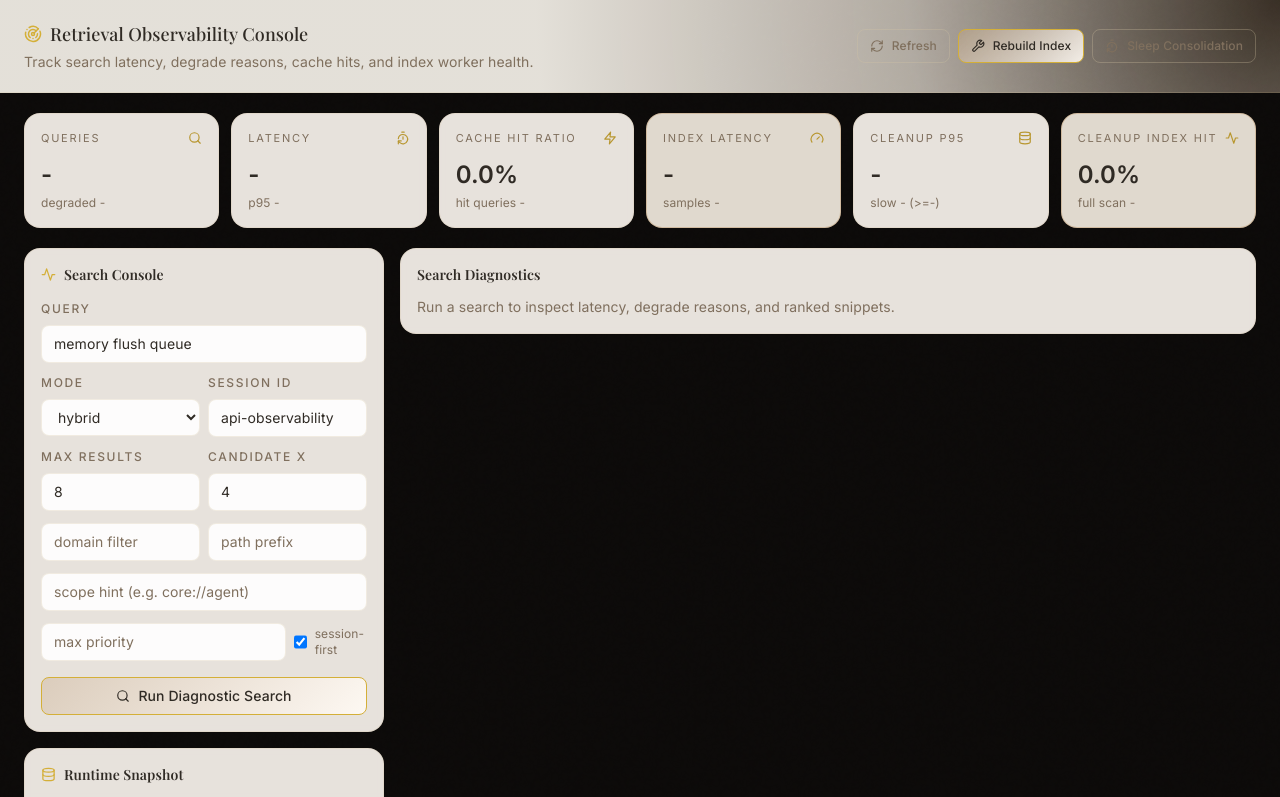
Test: ObservabilityPage › blocks diagnostic search when max priority is not an integer
Type "1.9" into the number field named "Max priority filter".
click(163, 642); type("1.9")  # box [41,622,286,660]
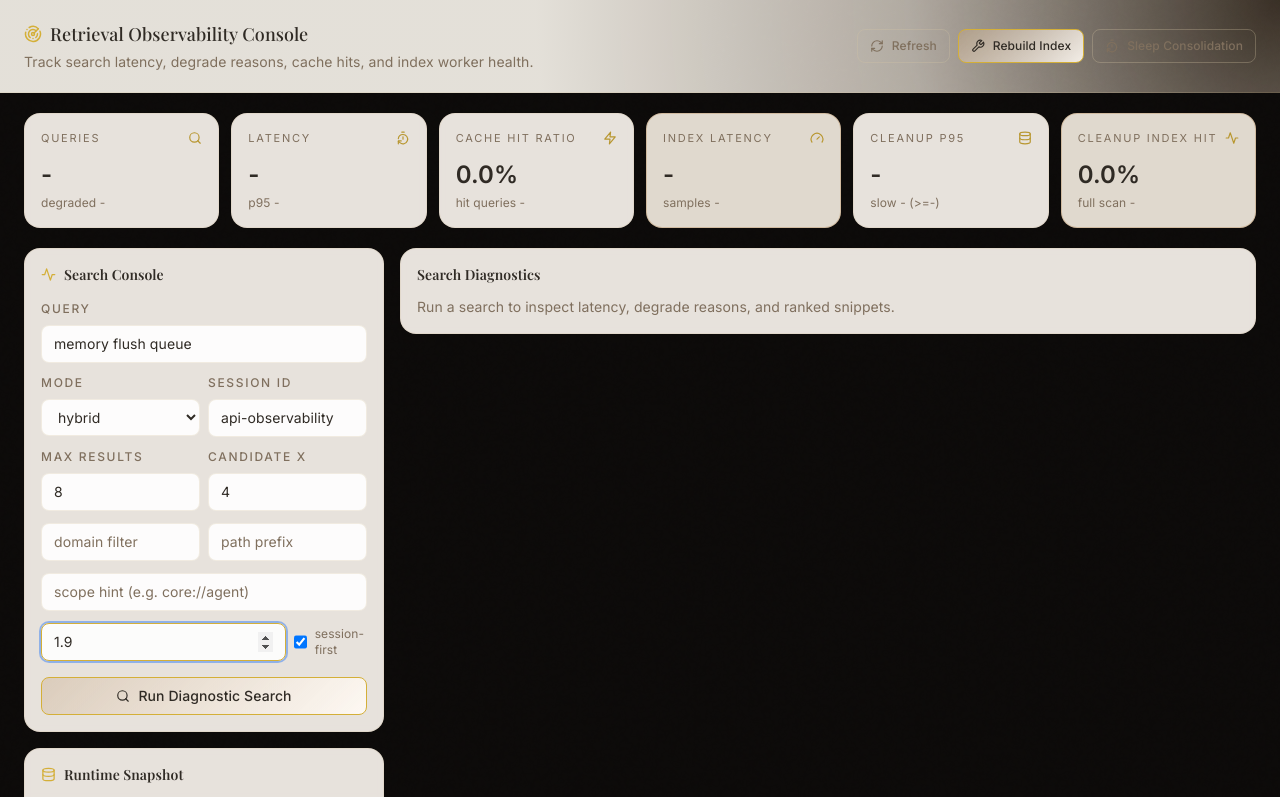
Click the button "Run Diagnostic Search".
click(204, 696)  # box [41,676,367,714]
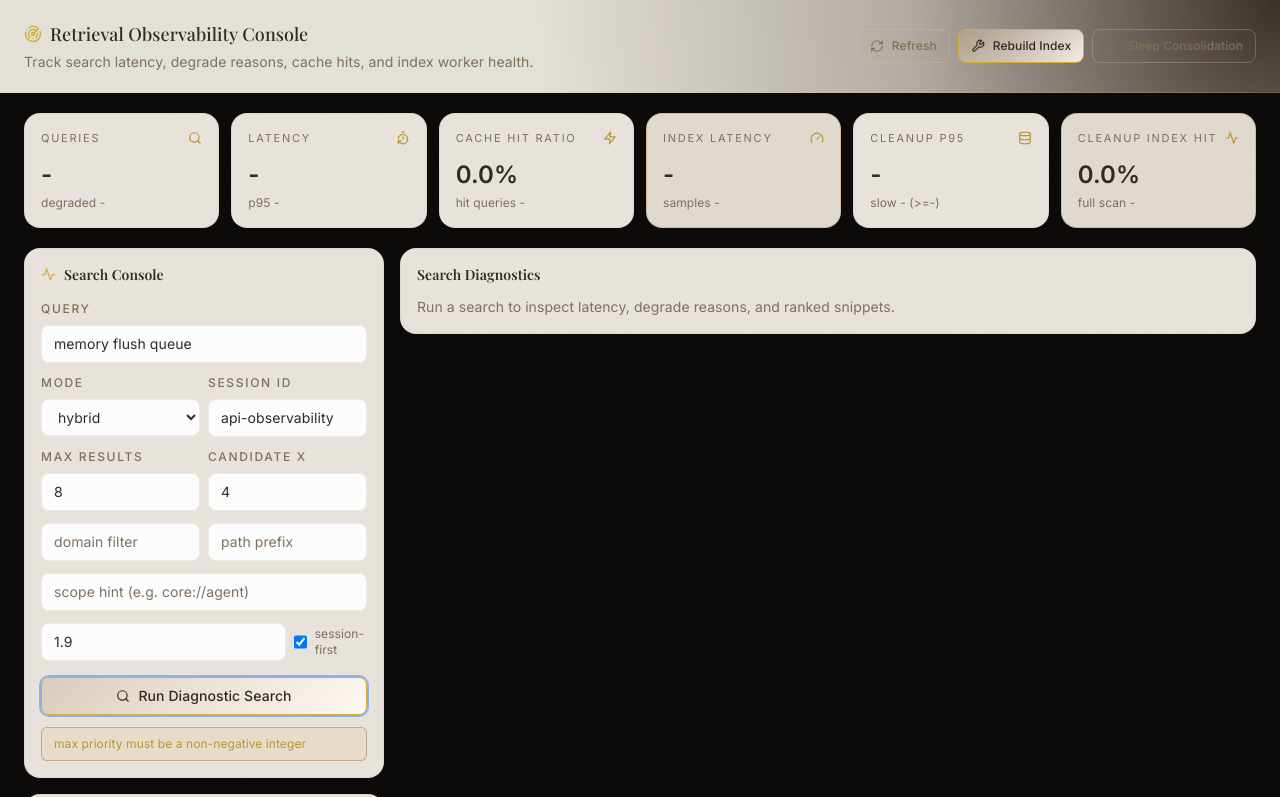
Now the text "max priority must be a non-negative integer" is shown, box [41,726,367,760]
